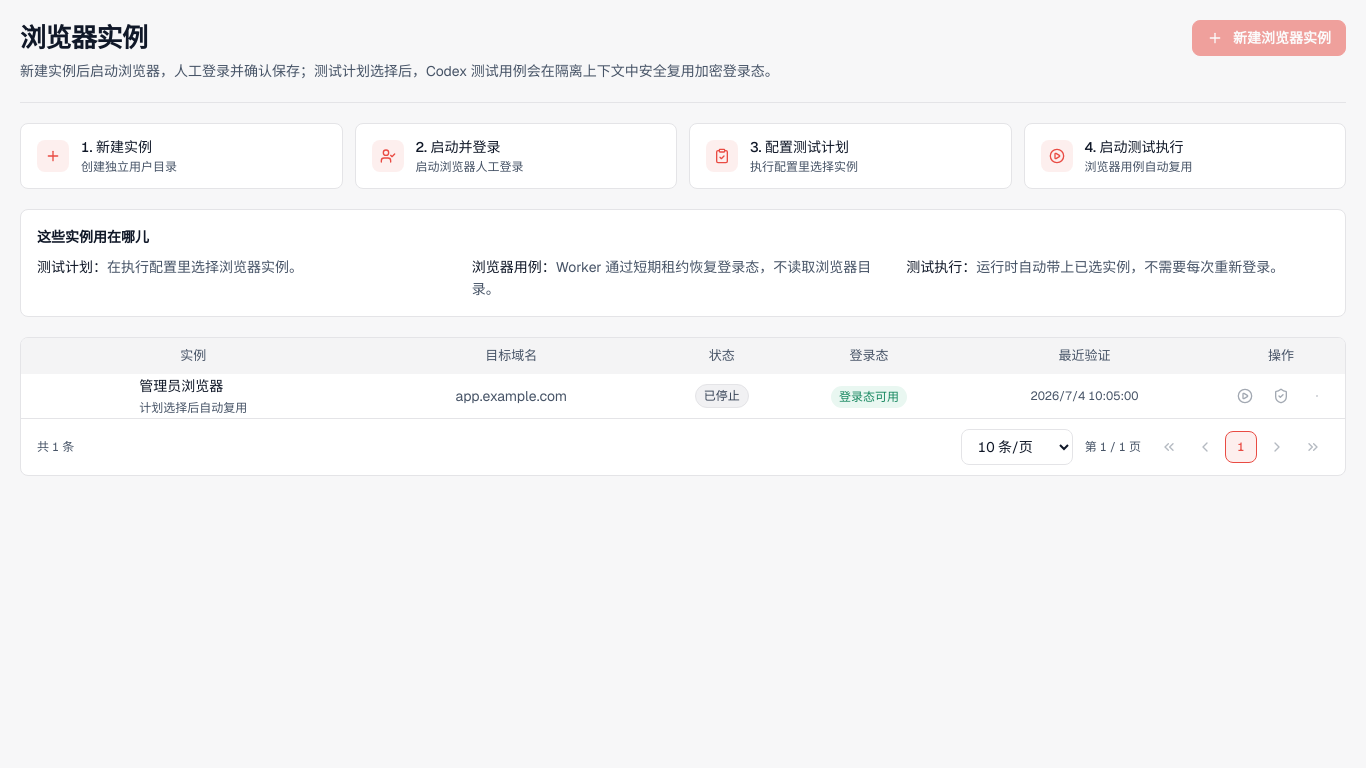
BrowserProfileList › shows the browser profile workflow and clear links
Expected: the text "新建实例后启动浏览器，人工登录并确认保存；测试计划选择后，Codex 测试用例会在隔离上下文中安全复用加密登录态。" is shown, [20,60,779,82]
Expected: the text "1. 新建实例" is shown, [81,138,152,156]
Press the mouse on the button named "管理管理员浏览器" at (1317, 396), box [1301,378,1333,414]
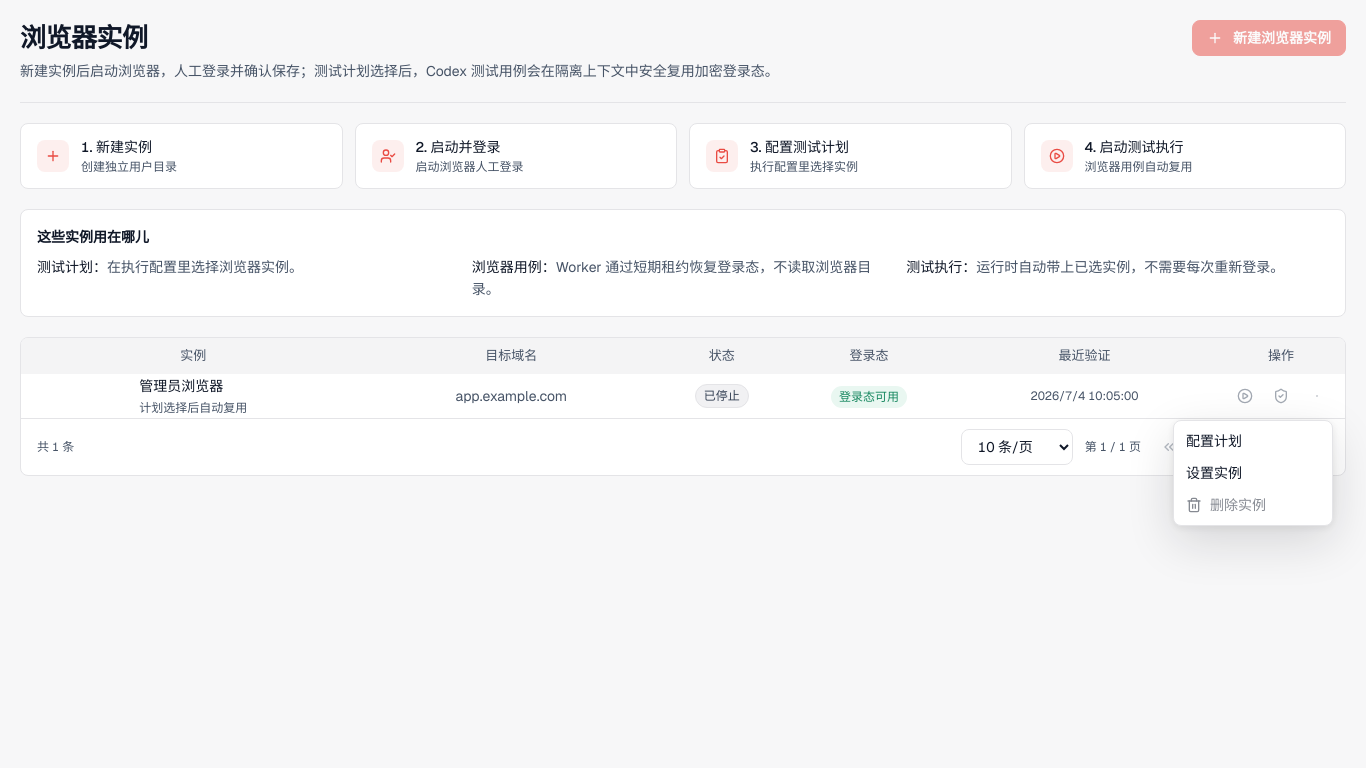
Expected: the menu item "设置实例" is shown, [1186,464,1242,482]
Expected: the menu item "删除实例" is shown, [1186,496,1266,514]
